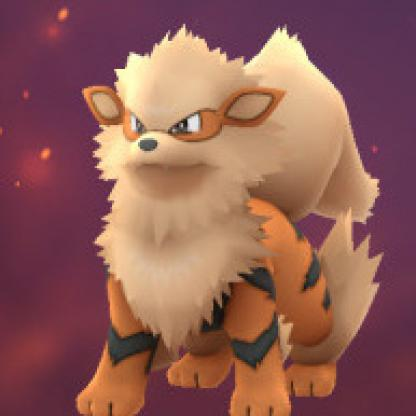Arcanine: (59, 22, 359, 415)
